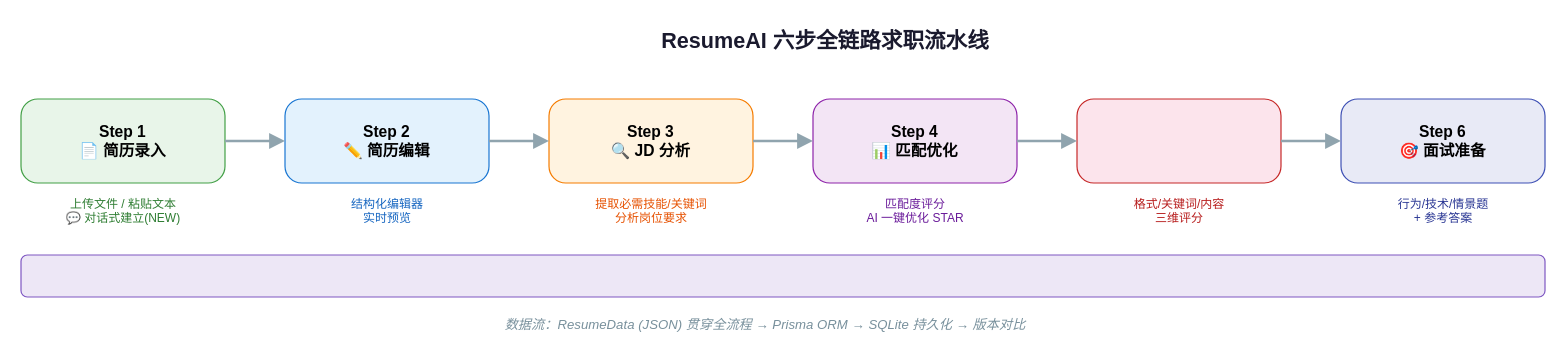
This 1566x359 diagram has some shape labels left out. The centre of each missing label's shape, as x and y in pixels:
"AI 驱动层：Claude (CLI 代理) / Qwen (DashScope SDK) — 全部 6 步均由 AI 执行" goes at point (782, 275).
"Step 5 🤖 ATS 检查" goes at point (1178, 140).
